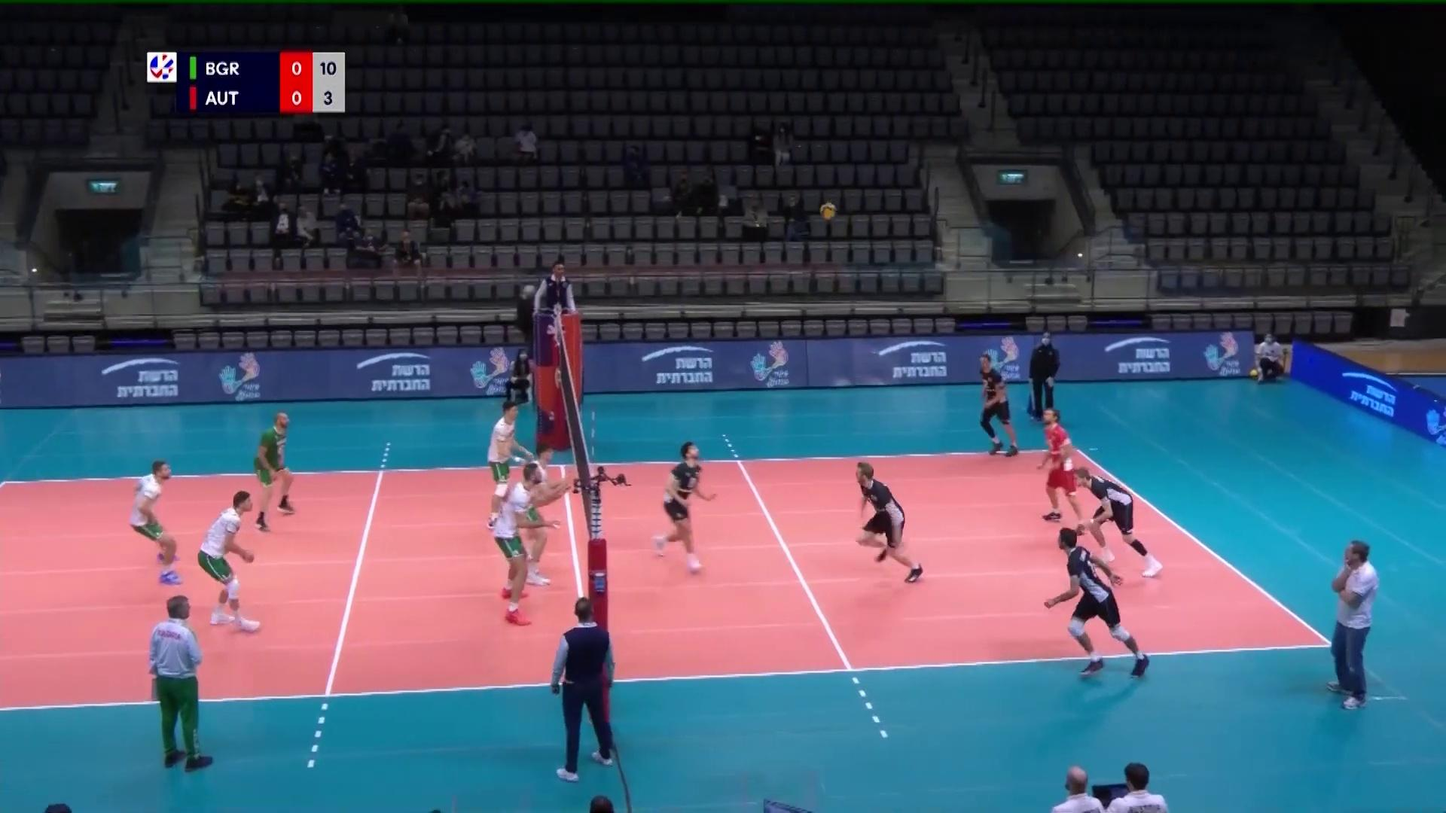ball: (820, 203, 836, 222)
